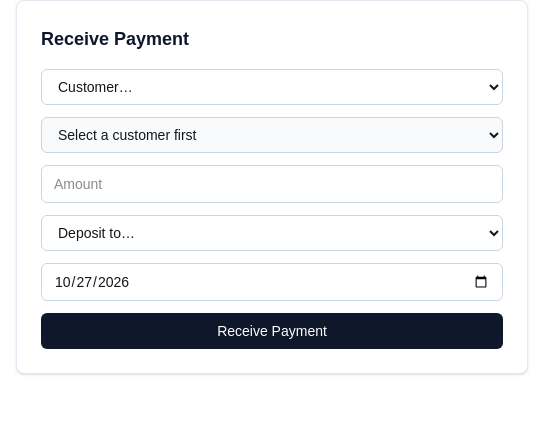
ReceivePaymentForm › resets the invoice selection when the customer changes
The width and height of the screenshot is (545, 424).
Select "Acme Co" in the 1st dropdown at (272, 87), box [41,69,503,105]
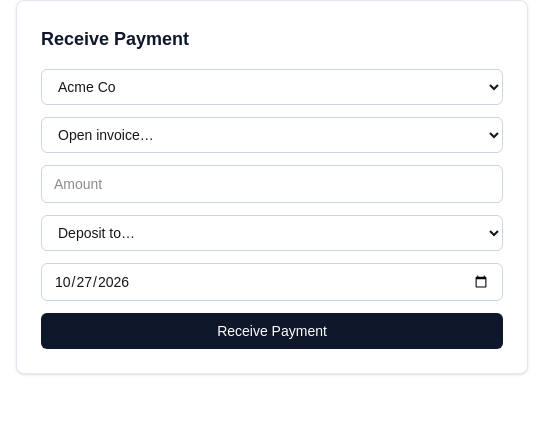
Select "INV-1 — $100.00 remaining" in the 2nd dropdown at (272, 135), box [41,117,503,153]
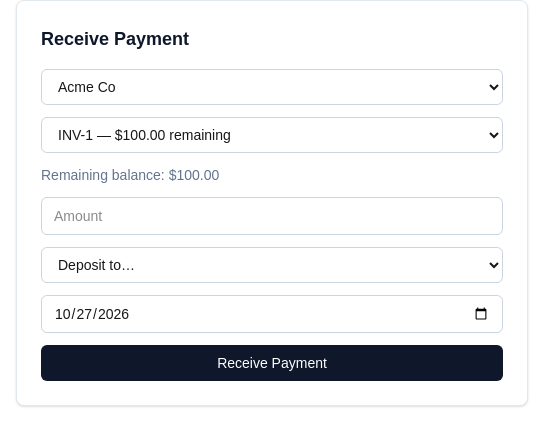
Expected: the text "Remaining balance: $100.00" is shown, [41,167,219,183]
Select "Beta LLC" in the 1st dropdown at (272, 87), box [41,69,503,105]
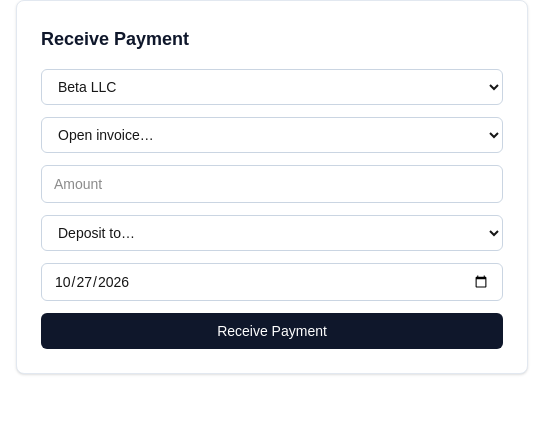
Expected: the text "Remaining balance" is gone
